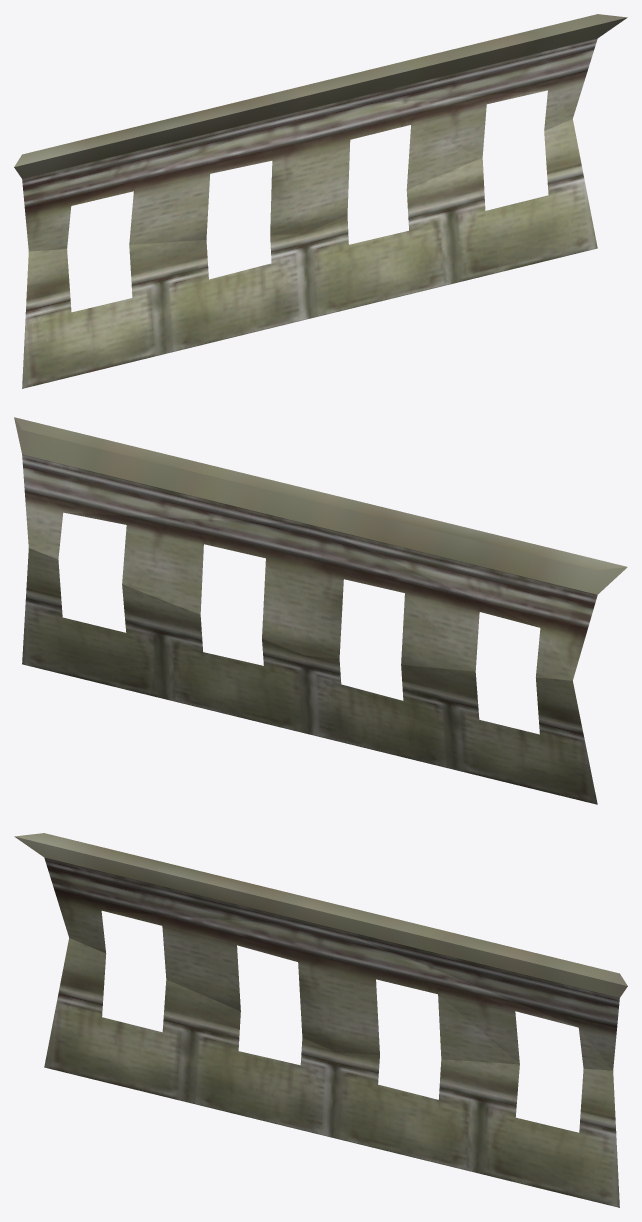
Rendered from W_A1_ffff [GelberMarmor2]_2166.glb.
3 views of the same model, one above another, from view 1: azimuth 30°, elevation 25°; view 2: azimuth 150°, elevation 25°; view 3: azimuth 330°, elevation 25° (orthographic).
Visible parts, largest first — view 1: polySurfaceShape728, polySurfaceShape1064; view 2: polySurfaceShape728, polySurfaceShape1064; view 3: polySurfaceShape728, polySurfaceShape1064.
Part boxes in pixels (bbox=[...]): polySurfaceShape728: bbox=[22, 38, 597, 388]; polySurfaceShape1064: bbox=[14, 14, 627, 178]; polySurfaceShape728: bbox=[22, 454, 597, 804]; polySurfaceShape1064: bbox=[14, 417, 627, 594]; polySurfaceShape728: bbox=[44, 857, 619, 1207]; polySurfaceShape1064: bbox=[14, 833, 627, 997].
Size of the model in its own units: 1.07 by 0.3891 by 0.0607.
Materials: 2 (2 with a texture image).
